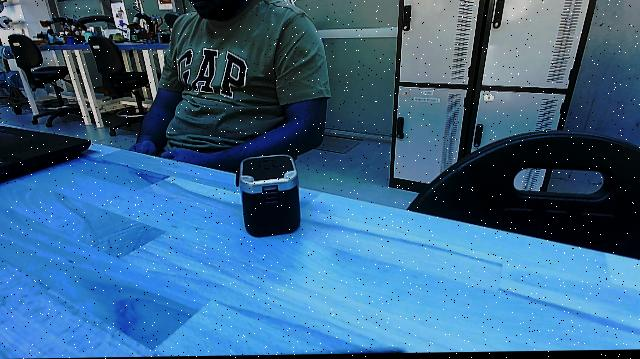adapter: (234, 157, 304, 239)
